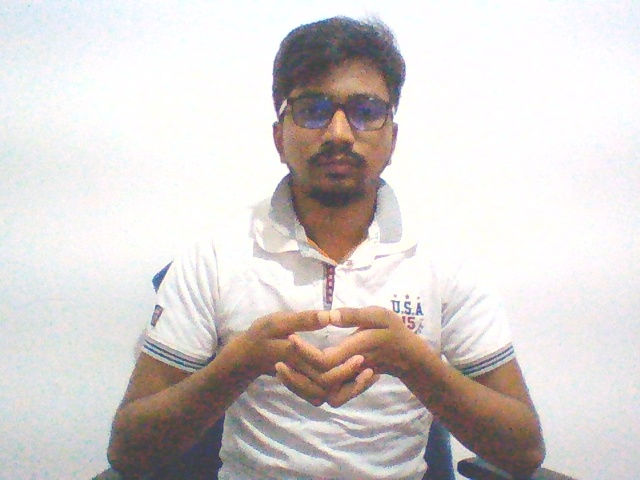mangosteen: (221, 295, 421, 415)
